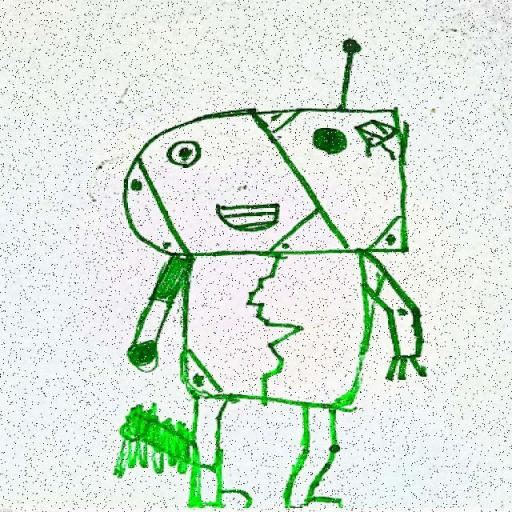person: (115, 40, 425, 507)
